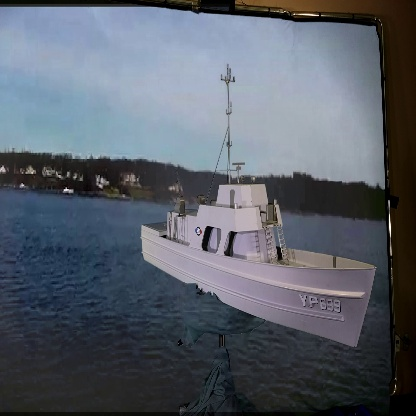YP689: (140, 64, 378, 351)
